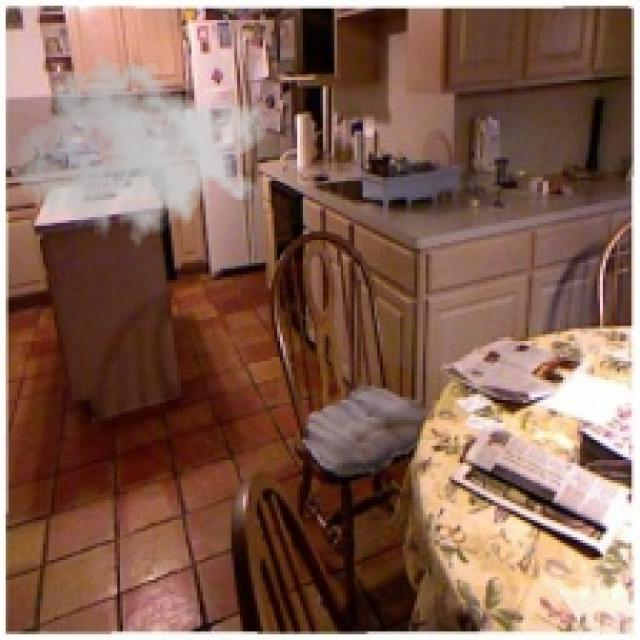Smoke: (14, 49, 269, 258)
